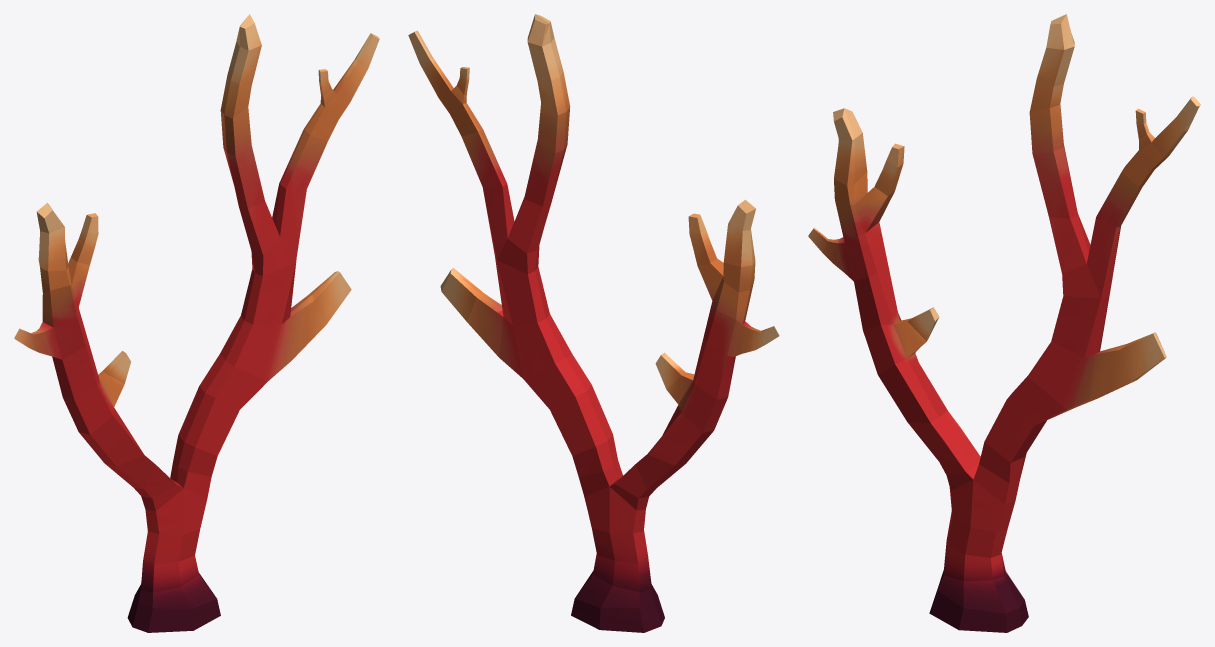
The model's file is RETAKE-origin_arbre_corail_rouge.fbx.
3 views of the same model, side by side, from view 1: azimuth 30°, elevation 25°; view 2: azimuth 150°, elevation 25°; view 3: azimuth 330°, elevation 25° (orthographic). The views are drawn at different scales.
Visible parts, largest first — view 1: Cylinder; view 2: Cylinder; view 3: Cylinder.
Boxes of the visible parts, bbox=[...] form: Cylinder: bbox=[14, 14, 379, 632]; Cylinder: bbox=[408, 14, 779, 632]; Cylinder: bbox=[808, 14, 1200, 632].
Bounding box in the file's own units: 126 × 190 × 22.15.
